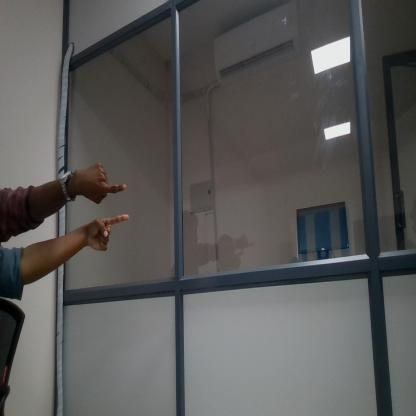Left: (80, 158, 129, 206), (88, 210, 132, 254)
